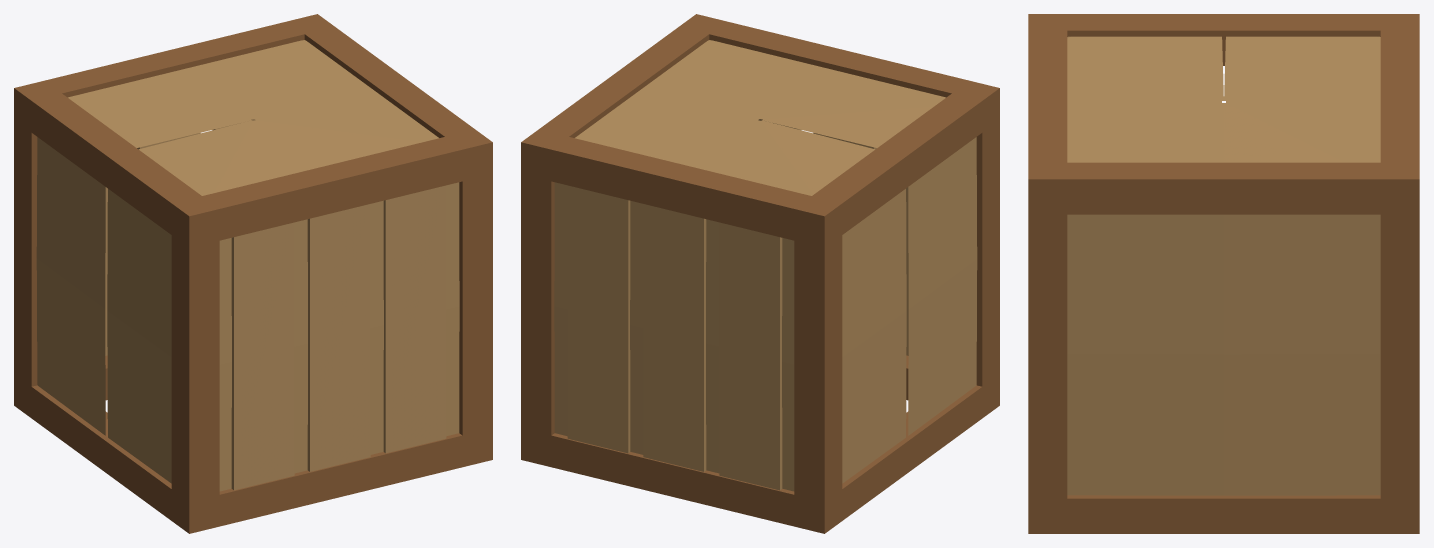
File: caisse.glb
3 views of the same model, side by side, from view 1: azimuth 30°, elevation 25°; view 2: azimuth 150°, elevation 25°; view 3: azimuth 270°, elevation 25° (orthographic). The views are drawn at different scales.
Visible parts, largest first — view 1: caisse; view 2: caisse; view 3: caisse.
Boxes of the visible parts, x1,y1,x2,y2 form: caisse: (14, 14, 492, 533); caisse: (521, 14, 999, 533); caisse: (1028, 14, 1419, 533).
Bounding box in the file's own units: 1 × 1 × 1.
